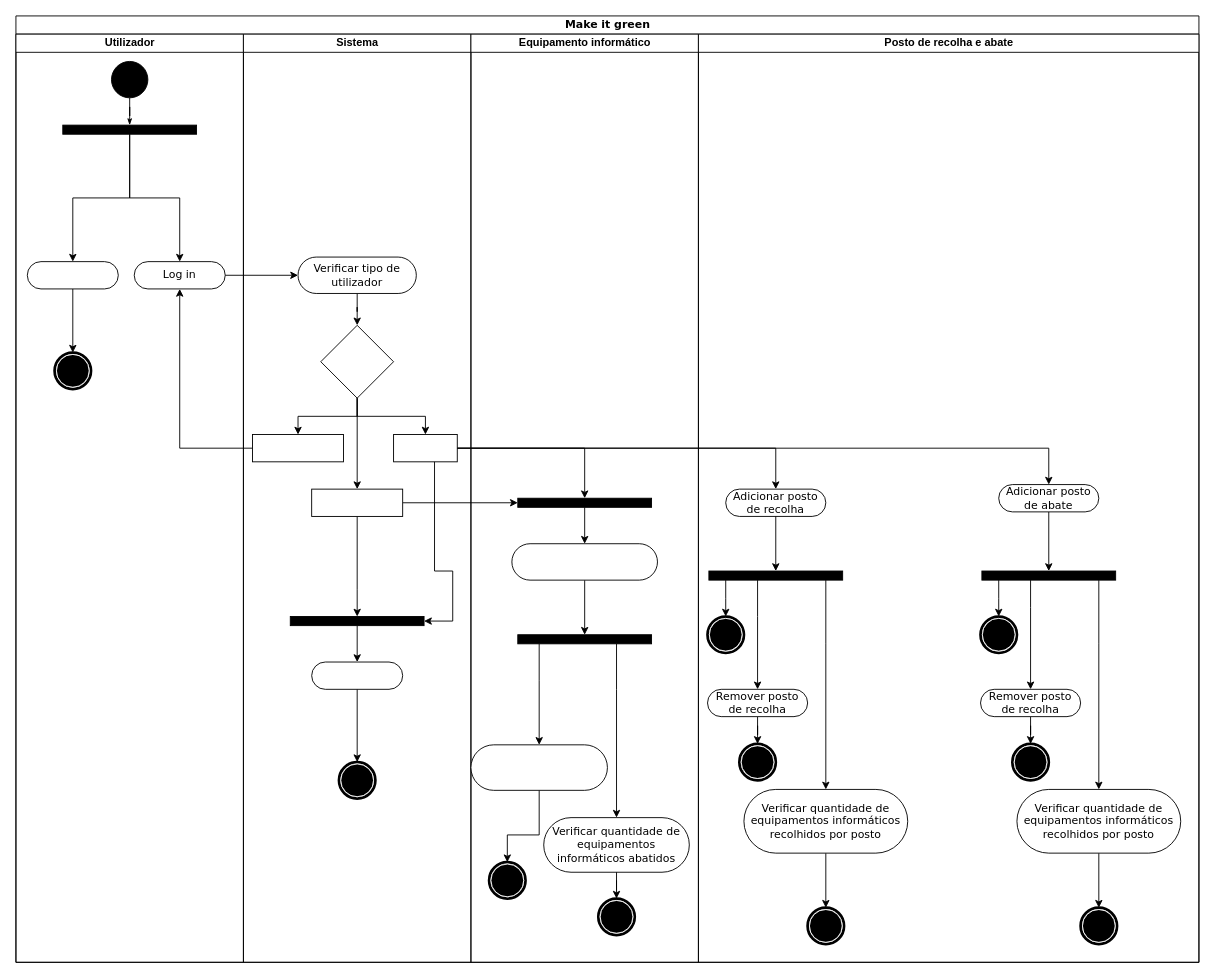
This 1215x978 diagram has some shape labels left out. Each missing label, with the centre of its shape:
"Adicionar equipamento informático" goes at pixel 584 561.
"Admin" goes at pixel 425 448.
"Registar" goes at pixel 72 275.
"Sair" goes at pixel 357 675.
"Utilizador autenticado" goes at pixel 357 502.
"Utilizador não autenticado" goes at pixel 298 448.
"Verificar o processo de reciclagem" goes at pixel 538 767.
